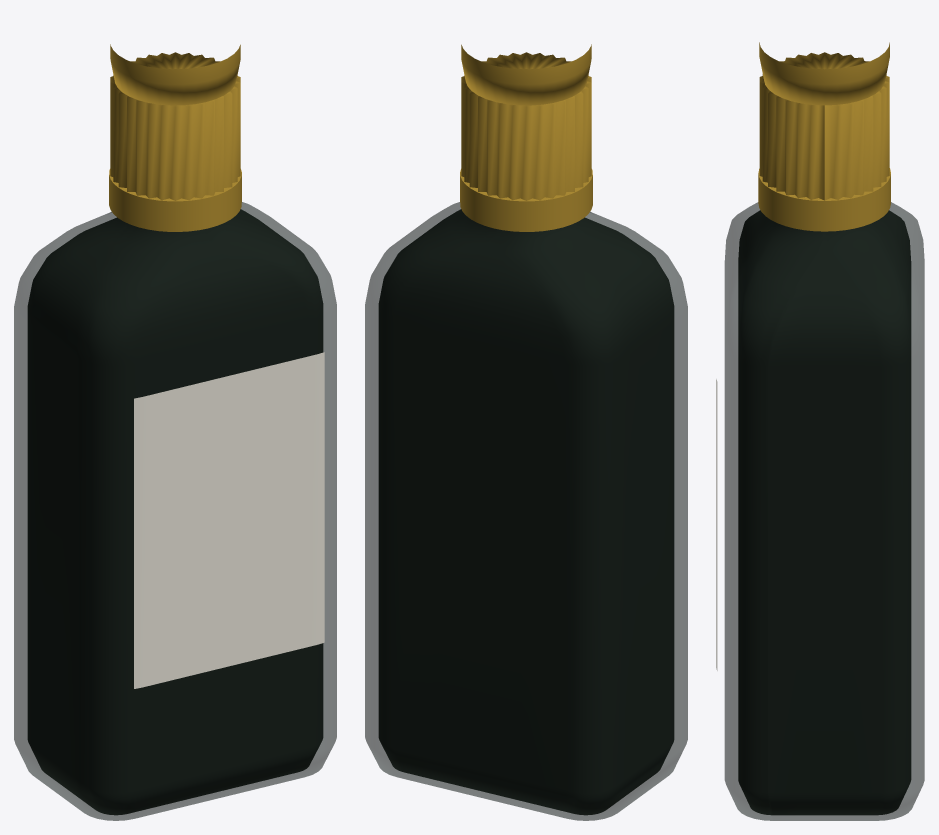
File: bottle-herbal-mini.glb
3 renders of one model, left to right at view 1: azimuth 30°, elevation 25°; view 2: azimuth 150°, elevation 25°; view 3: azimuth 270°, elevation 25°, orthographic.
Visible parts, largest first — view 1: glass_body, liquid_body, label_slot, cap, cap_top, cap_skirt; view 2: glass_body, liquid_body, cap, cap_top, cap_skirt; view 3: glass_body, liquid_body, cap, cap_top, cap_skirt, label_slot.
Part boxes in pixels (x1,y1,x2,y2): glass_body: (14,202,336,820); liquid_body: (27,209,323,815); label_slot: (134,352,324,688); cap: (110,52,240,200); cap_top: (110,44,240,105); cap_skirt: (109,169,241,231); glass_body: (365,202,687,820); liquid_body: (378,209,674,815); cap: (461,52,591,200); cap_top: (461,44,591,105); cap_skirt: (460,169,592,231); glass_body: (724,202,924,820); liquid_body: (738,210,911,815); cap: (759,52,889,200); cap_top: (759,42,889,105); cap_skirt: (758,168,890,231); label_slot: (716,379,717,670).
Size of the model in its own units: 0.0348 by 0.0945 by 0.0247.
